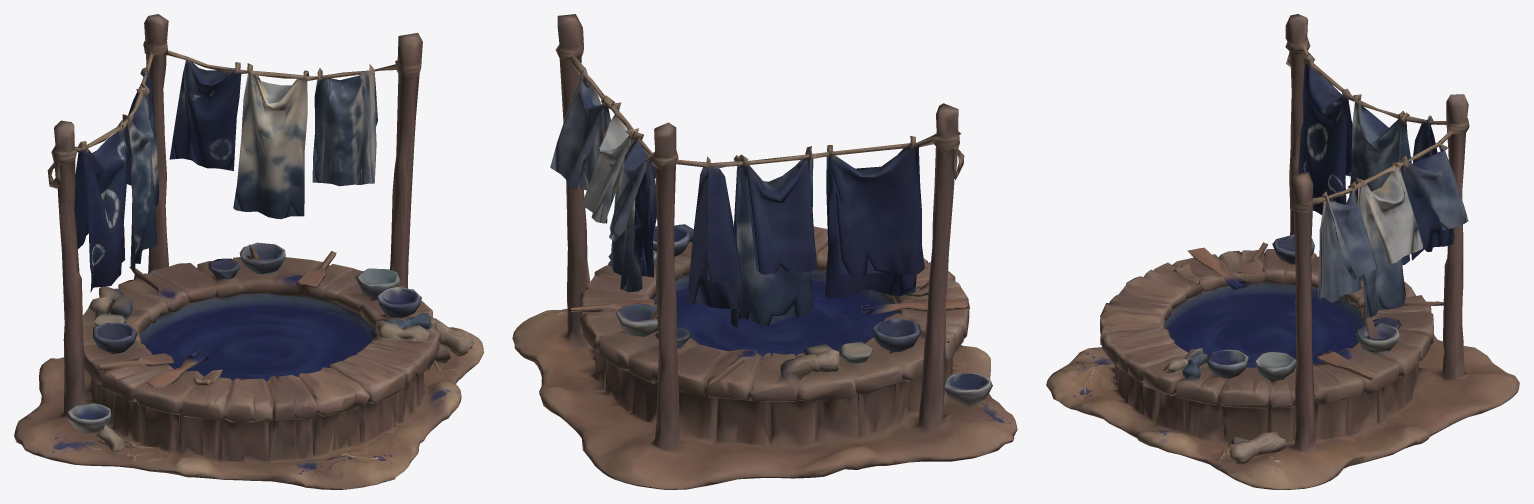
Rendered from craft_market_dye_vat.glb.
3 views of the same model, side by side, from view 1: azimuth 30°, elevation 25°; view 2: azimuth 150°, elevation 25°; view 3: azimuth 270°, elevation 25° (orthographic). The views are drawn at different scales.
Parts seen in each view (by area): view 1: tripo_node_d45ec100-786a-4a30-905e-2646068ae566; view 2: tripo_node_d45ec100-786a-4a30-905e-2646068ae566; view 3: tripo_node_d45ec100-786a-4a30-905e-2646068ae566.
Part boxes in pixels (box(x1,y1,x2,y2)): tripo_node_d45ec100-786a-4a30-905e-2646068ae566: box(14, 14, 483, 489); tripo_node_d45ec100-786a-4a30-905e-2646068ae566: box(512, 14, 1017, 489); tripo_node_d45ec100-786a-4a30-905e-2646068ae566: box(1046, 14, 1519, 489).
Size of the model in its own units: 1 by 0.6617 by 0.9606.
Materials: 1 (1 with a texture image).
